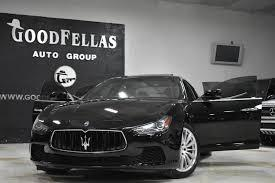car: (32, 73, 202, 175)
